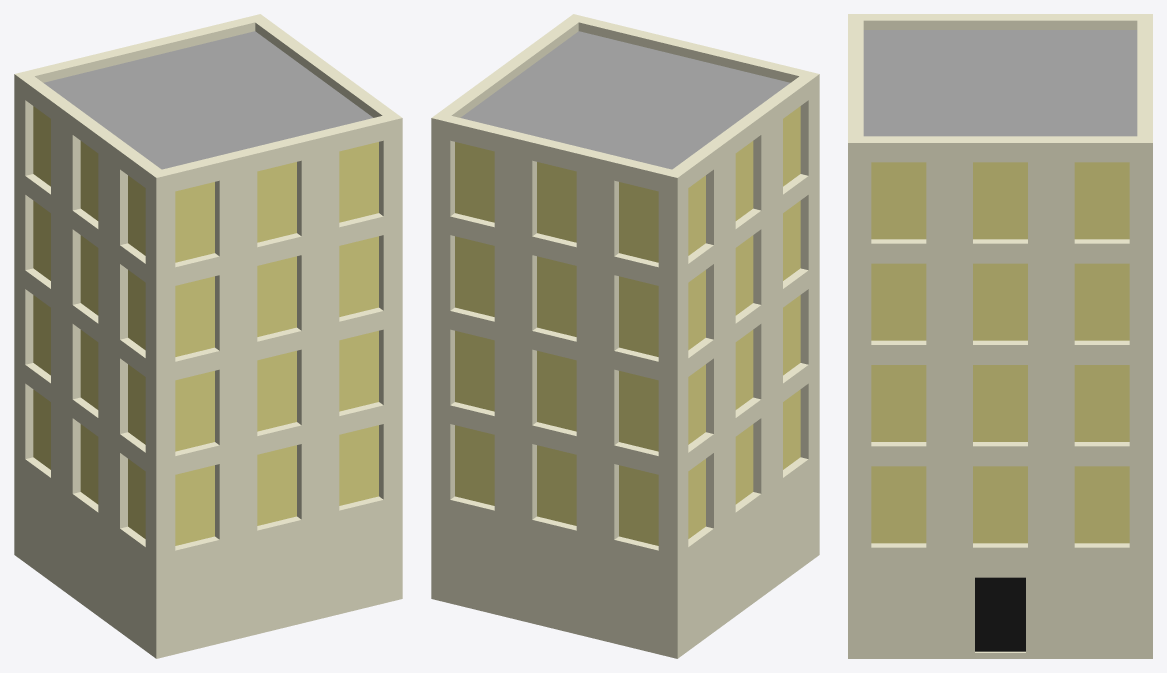
The model's file is Building1.glb.
3 renders of one model, left to right at view 1: azimuth 30°, elevation 25°; view 2: azimuth 150°, elevation 25°; view 3: azimuth 270°, elevation 25°, orthographic. The views are drawn at different scales.
Visible parts, largest first — view 1: Building1; view 2: Building1; view 3: Building1.
Boxes of the visible parts, bbox=[...] form: Building1: bbox=[14, 14, 402, 658]; Building1: bbox=[431, 14, 819, 658]; Building1: bbox=[848, 14, 1152, 658].
Size of the model in its own units: 6 by 11.2 by 6.
1 material, 1 textured.
